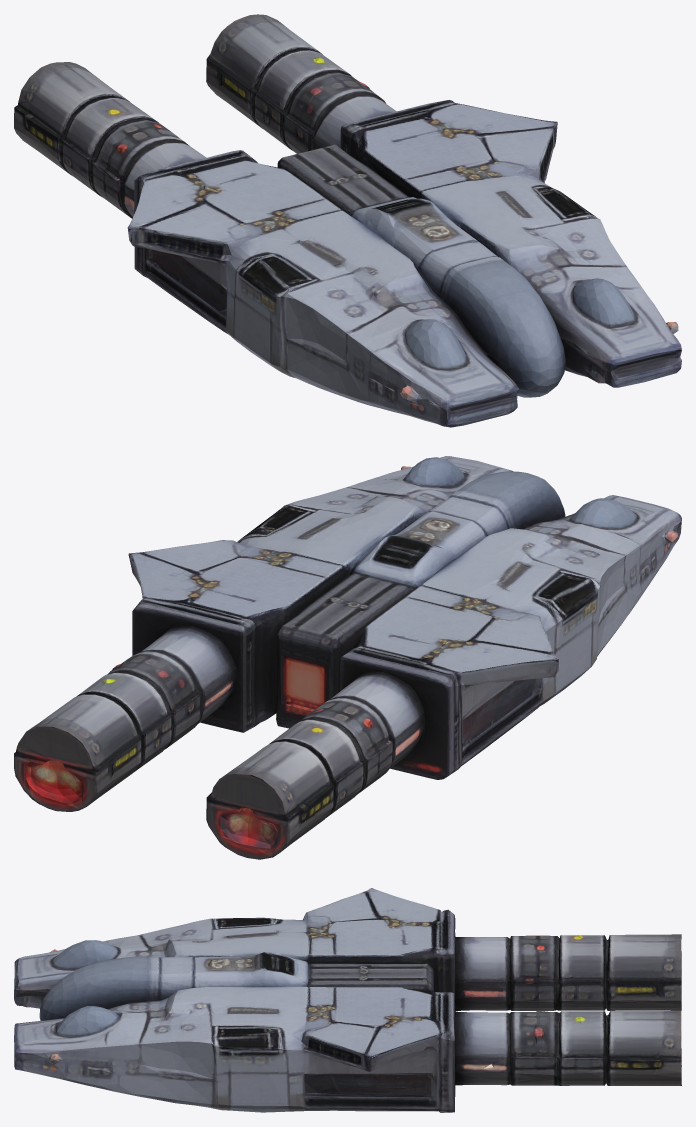
Rendered from Merkara Trader.glb.
3 views of the same model, one above another, from view 1: azimuth 30°, elevation 25°; view 2: azimuth 150°, elevation 25°; view 3: azimuth 270°, elevation 25° (orthographic). The views are drawn at different scales.
Visible parts, largest first — view 1: world; view 2: world; view 3: world.
Boxes of the visible parts, x1,y1,x2,y2 form: world: [14, 14, 681, 427]; world: [14, 456, 681, 859]; world: [14, 888, 681, 1112].
Size of the model in its own units: 0.6016 by 0.1722 by 1.
1 material, 1 textured.
